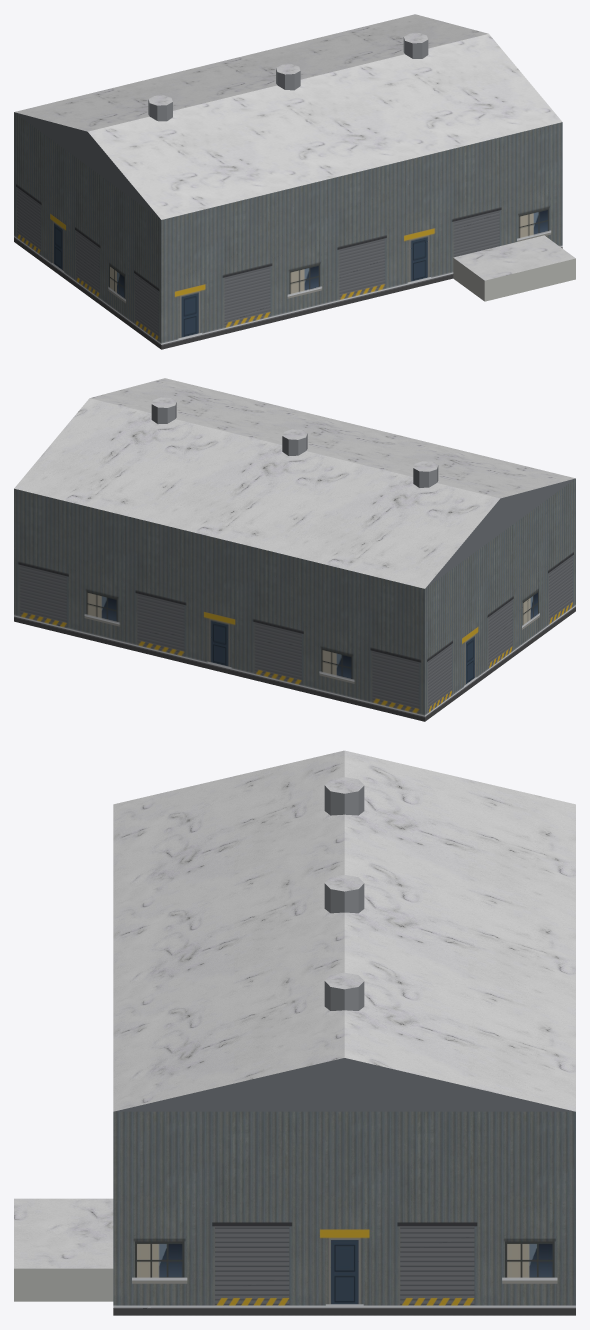
File: c_hall.glb
3 views of the same model, one above another, from view 1: azimuth 30°, elevation 25°; view 2: azimuth 150°, elevation 25°; view 3: azimuth 270°, elevation 25° (orthographic). The views are drawn at different scales.
Visible parts, largest first — view 1: House; view 2: House; view 3: House.
Boxes of the visible parts, x1,y1,x2,y2 form: House: [14, 14, 575, 349]; House: [14, 378, 575, 721]; House: [14, 750, 575, 1315].
Bounding box in the file's own units: 22 × 9.3 × 17.
3 materials, 3 textured.
